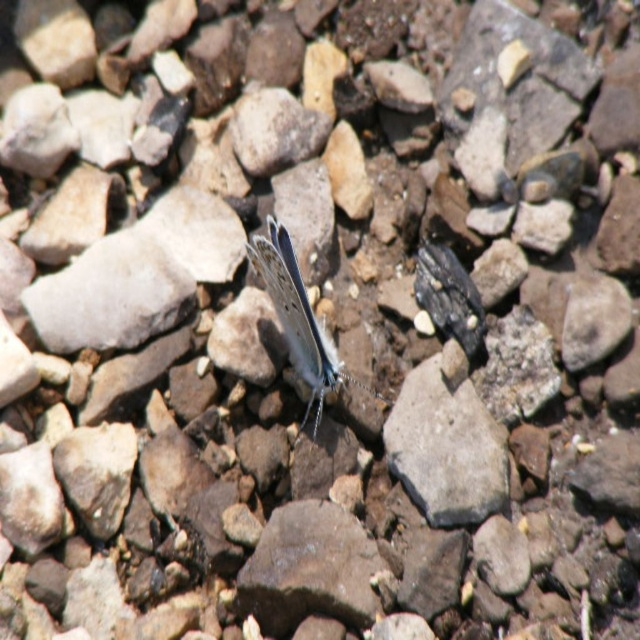Butterfly: (243, 212, 395, 453)
